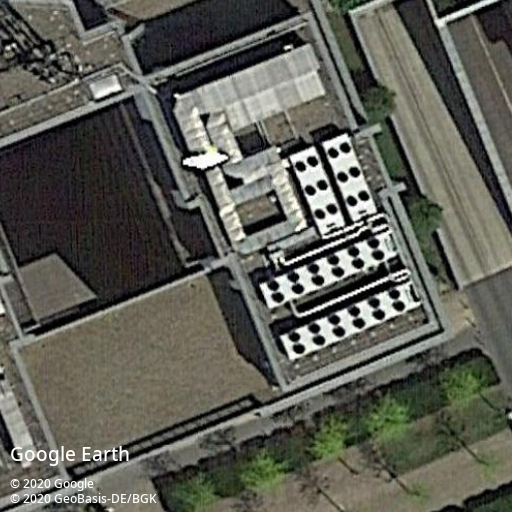Chiller: (278, 284, 412, 362), (258, 232, 393, 309), (322, 132, 377, 222), (289, 145, 345, 231)
